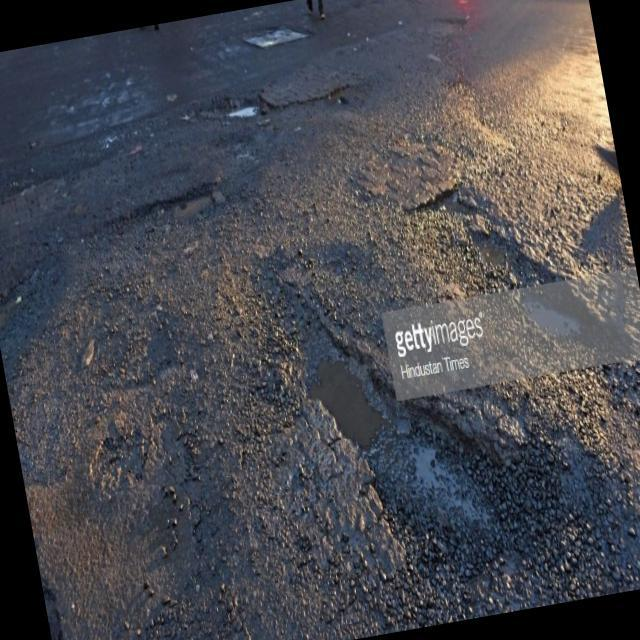Pothole: (277, 298, 405, 473), (389, 393, 499, 564), (463, 206, 523, 284), (154, 176, 224, 228), (422, 175, 476, 222), (218, 88, 274, 128), (0, 285, 21, 329)
